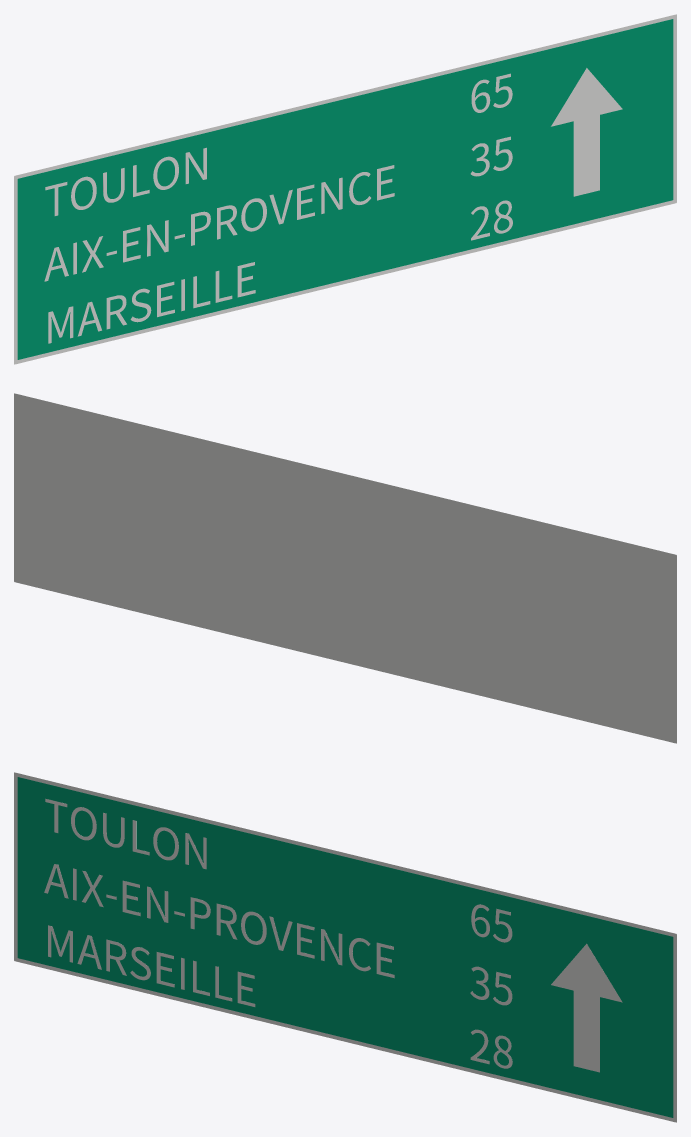
3 views of the same model, one above another, from view 1: azimuth 30°, elevation 25°; view 2: azimuth 150°, elevation 25°; view 3: azimuth 330°, elevation 25° (orthographic).
Visible parts, largest first — view 1: D42b_reg01, D42b_lis00, D42b_fl02, D42b_txt05, D42b_txt07, D42b_txt03, D42b_txt04, D42b_txt08, D42b_txt06; view 2: D42b_lis00; view 3: D42b_reg01, D42b_lis00, D42b_txt05, D42b_fl02, D42b_txt07, D42b_txt03, D42b_txt08, D42b_txt04, D42b_txt06.
Part boxes in pixels (x1,y1,x2,y2): D42b_reg01: (17,19,673,359); D42b_lis00: (14,14,676,364); D42b_fl02: (551,68,622,196); D42b_txt05: (44,165,394,281); D42b_txt07: (48,262,255,343); D42b_txt03: (45,147,206,215); D42b_txt04: (471,73,512,112); D42b_txt08: (471,200,512,240); D42b_txt06: (470,136,512,176); D42b_lis00: (14,393,676,743); D42b_reg01: (17,777,673,1117); D42b_lis00: (14,772,676,1122); D42b_txt05: (44,864,394,978); D42b_fl02: (551,943,622,1072); D42b_txt07: (48,925,255,1006); D42b_txt03: (45,798,206,869); D42b_txt08: (470,1029,512,1068); D42b_txt04: (471,904,512,942); D42b_txt06: (470,966,512,1005).
Bounding box in the file's own units: 7.06 × 1.92 × 0.0036.
